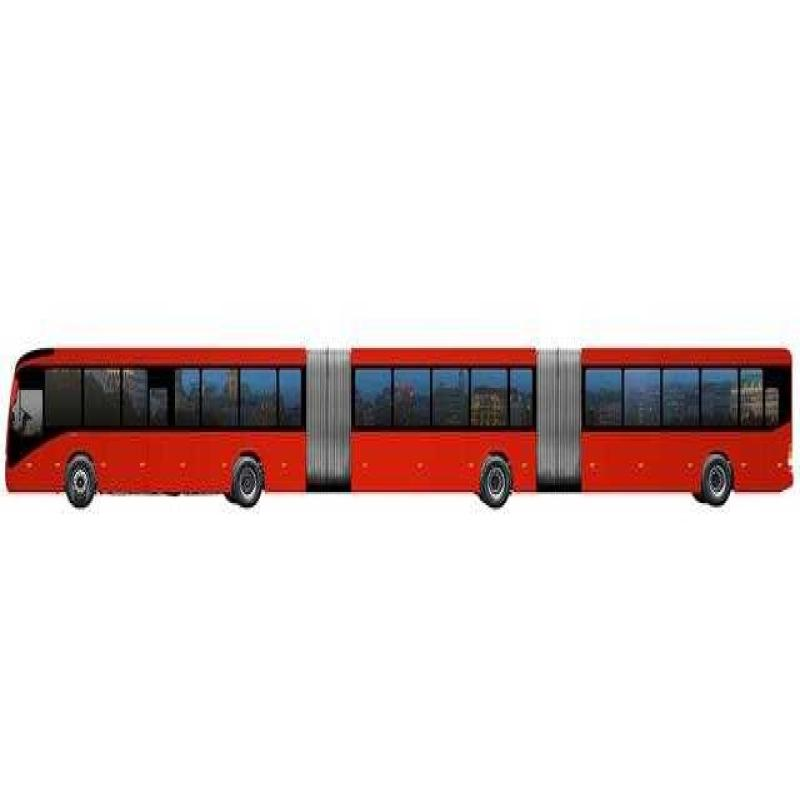bus: (14, 297, 548, 556)
